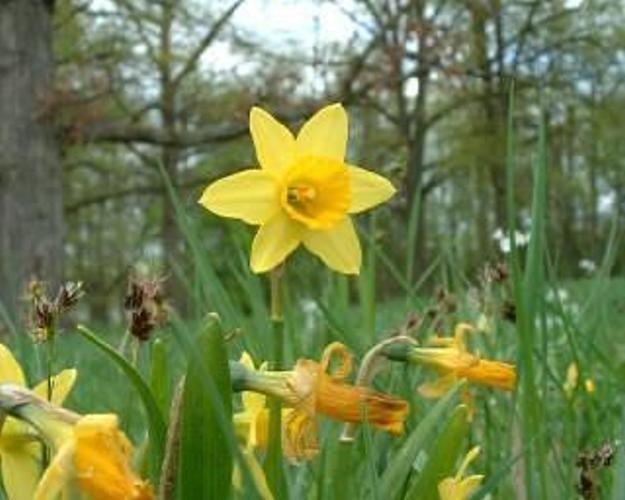flower1: (197, 102, 400, 274), (255, 341, 412, 462), (392, 322, 523, 397)
